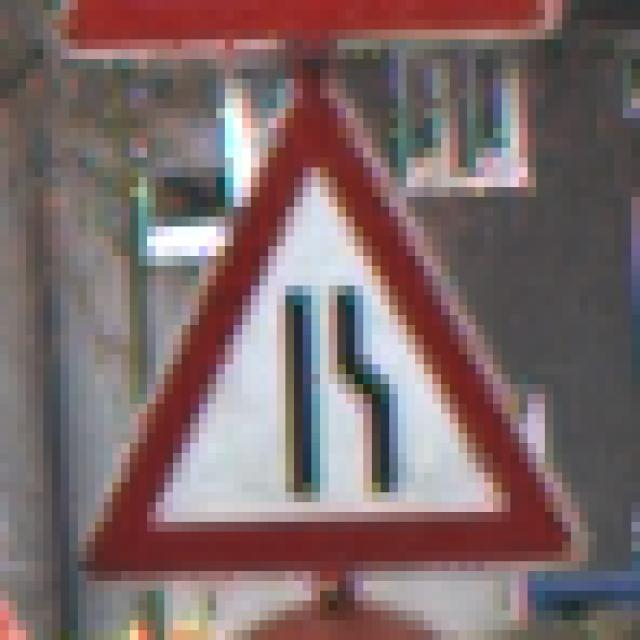narrow road ahead: (76, 81, 579, 564)
